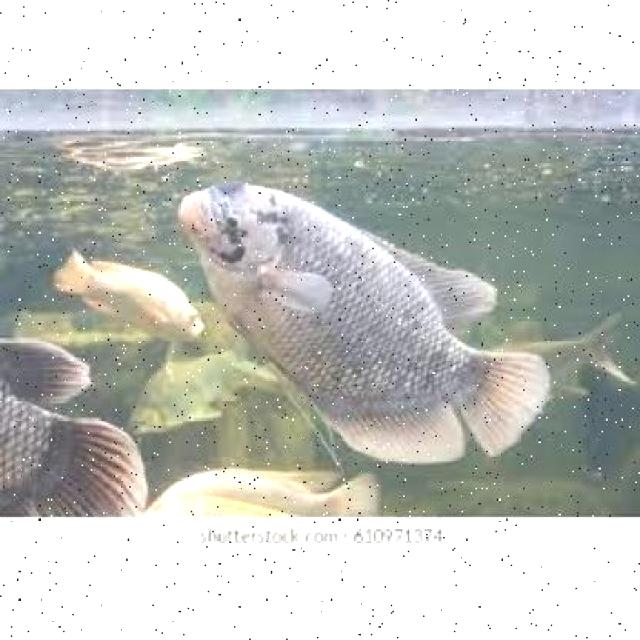gurame: (172, 172, 530, 465)
